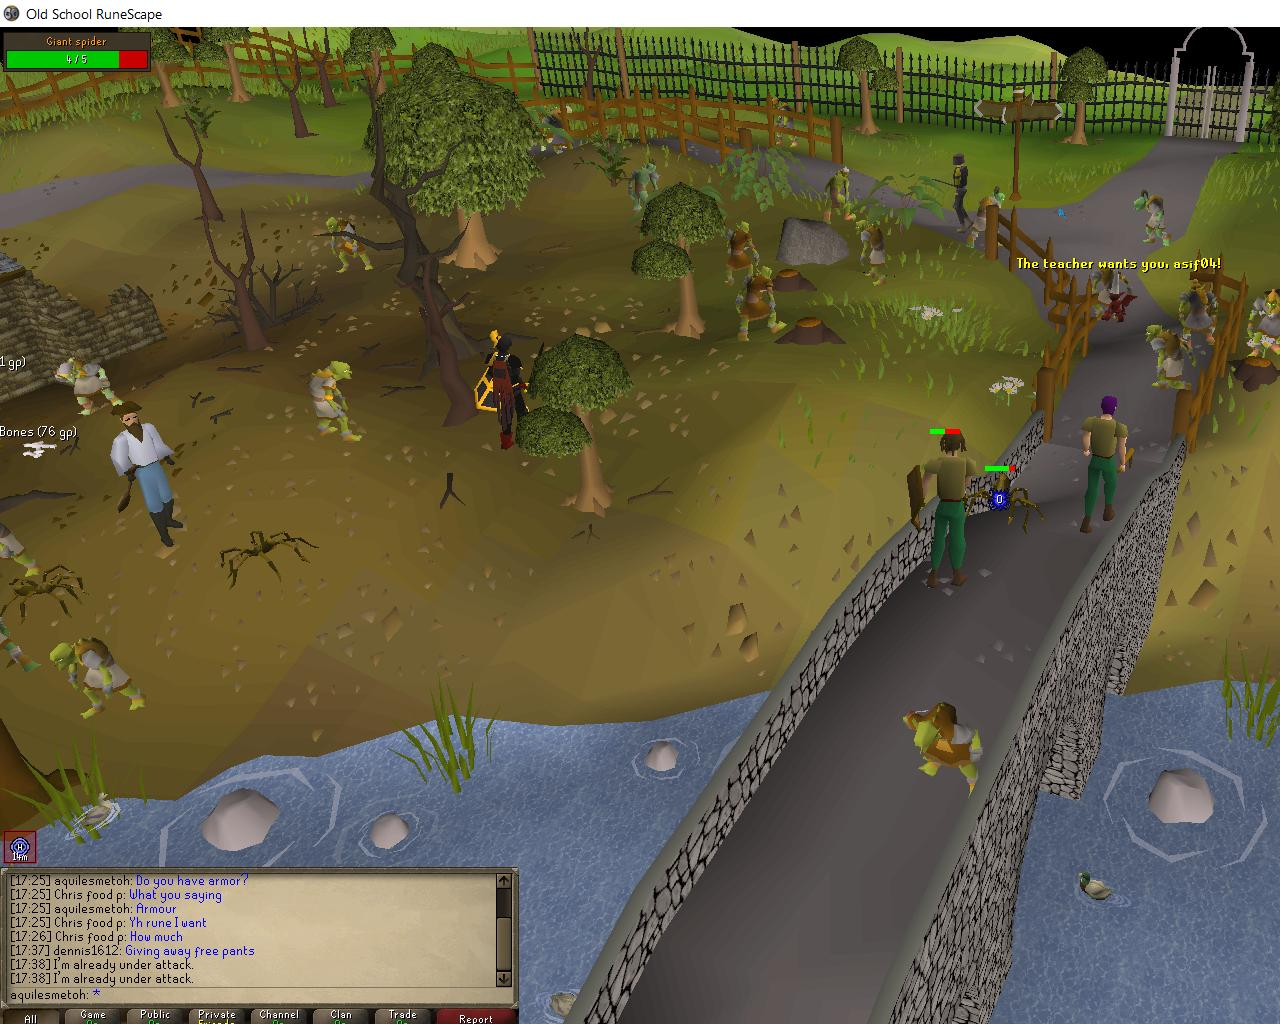Goblin: (897, 700, 987, 801), (47, 637, 155, 721), (305, 357, 366, 446), (53, 356, 133, 418), (738, 267, 790, 344), (1145, 323, 1198, 393), (1176, 279, 1225, 348), (1086, 262, 1135, 323), (324, 216, 374, 274), (854, 218, 893, 290), (1128, 189, 1176, 247), (721, 220, 762, 285), (817, 165, 861, 225), (1246, 288, 1280, 362), (627, 160, 664, 214), (769, 97, 799, 150)
